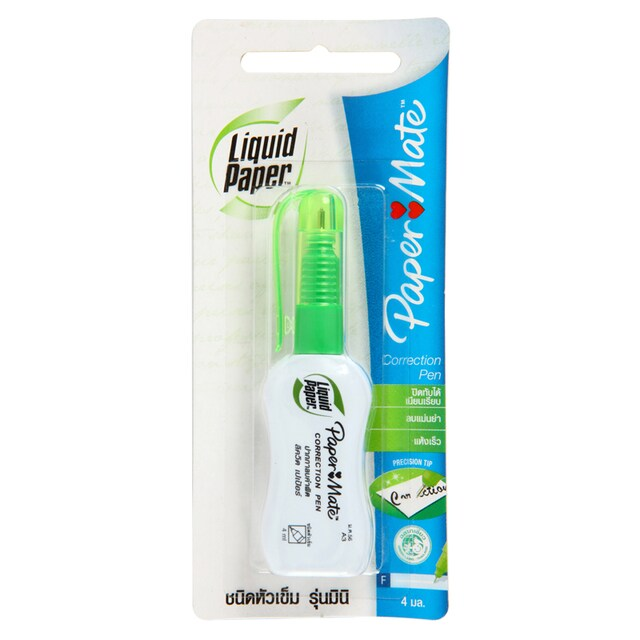Correction_fluid: (248, 179, 386, 585)
